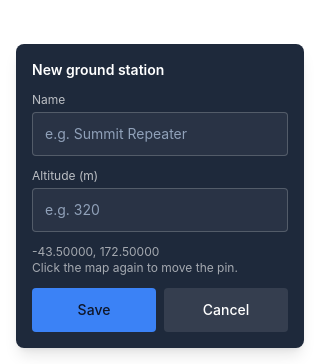
Test: creating a ground station › rejects a blank name
This screenshot has width=321, height=364.
Type "320" into the field labelled "Altitude (m)" at (160, 210), box [32,188,288,232]
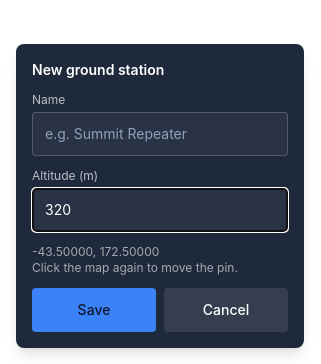
Click the button "Save" at (94, 310), box [32,288,156,332]
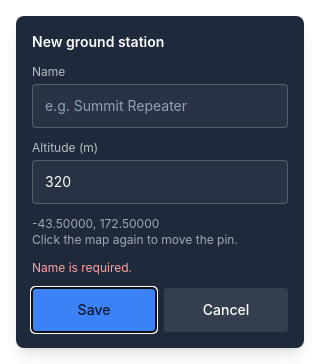
Now the message reads "Name is required.", box [32,260,132,275]
